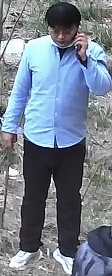phone: (40, 3, 111, 99)
